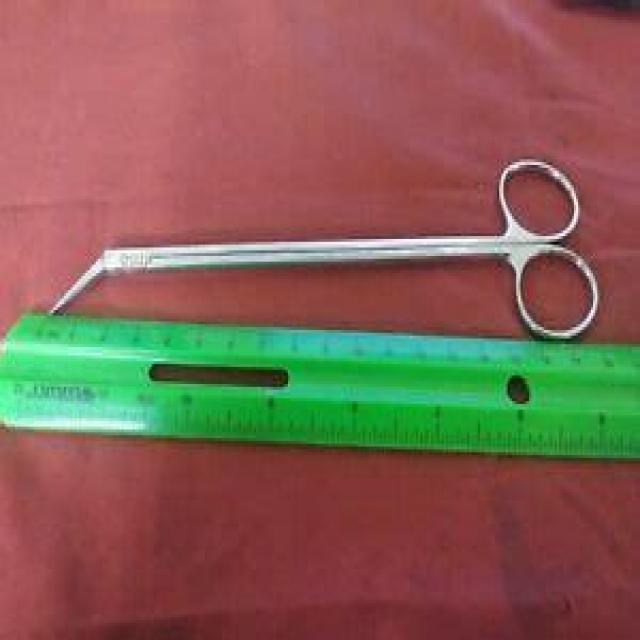Potts: (45, 150, 604, 344)
